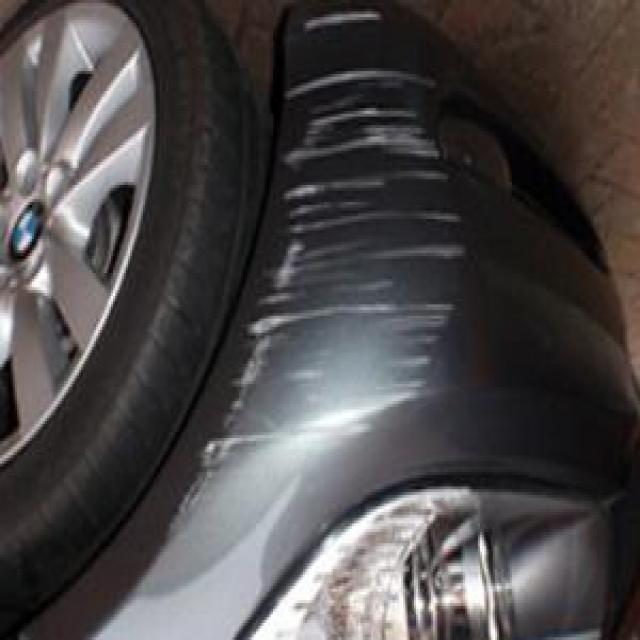scratch: (194, 9, 459, 519)
